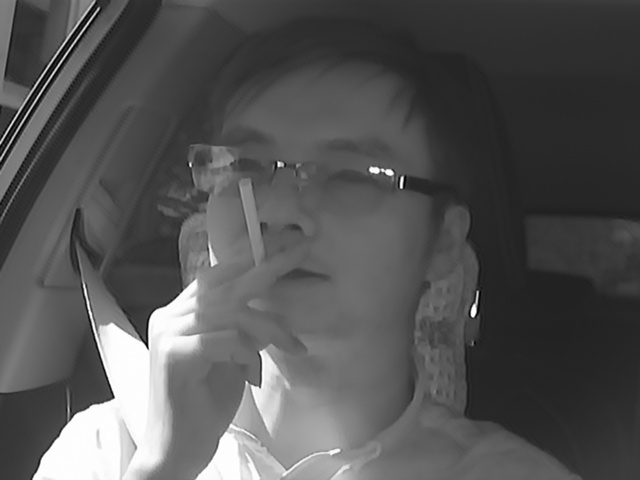hand: (136, 241, 306, 451)
